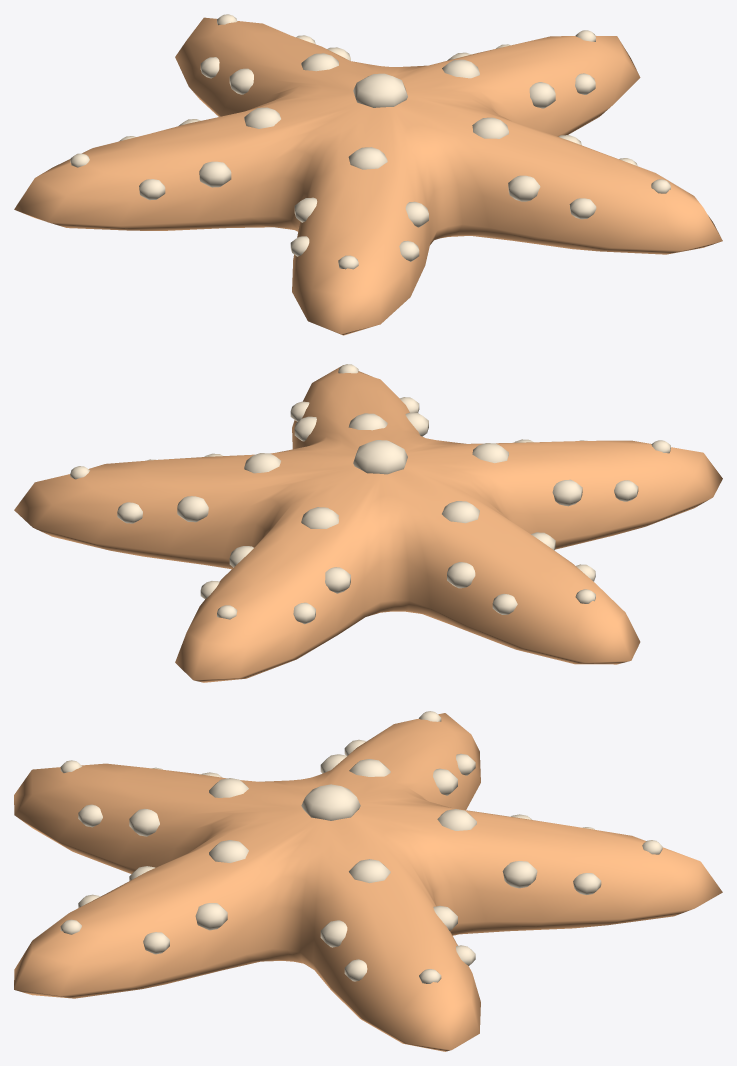
File: SharkBaitStarfish.glb
3 views of the same model, one above another, from view 1: azimuth 30°, elevation 25°; view 2: azimuth 150°, elevation 25°; view 3: azimuth 270°, elevation 25° (orthographic). The views are drawn at different scales.
Parts seen in each view (by area): view 1: Star, Dots; view 2: Star, Dots; view 3: Star, Dots.
Part boxes in pixels (left/top/right/bottom): Star: left=14, top=17, right=722, bottom=335; Dots: left=70, top=14, right=670, bottom=269; Star: left=14, top=365, right=722, bottom=682; Dots: left=70, top=364, right=670, bottom=624; Star: left=14, top=713, right=722, bottom=1051; Dots: left=60, top=711, right=662, bottom=983.
Bounding box in the file's own units: 2.51 × 0.5 × 2.39.
